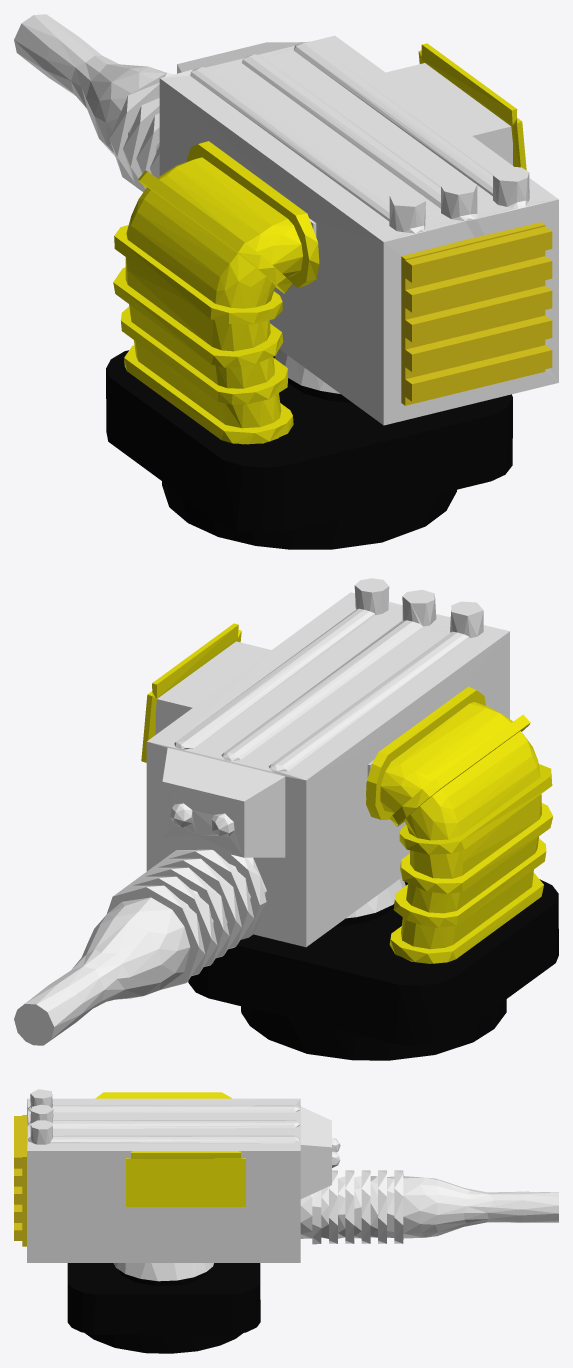
Rendered from machotine.obj.
3 renders of one model, top to bottom at view 1: azimuth 30°, elevation 25°; view 2: azimuth 150°, elevation 25°; view 3: azimuth 270°, elevation 25°, orthographic. The views are drawn at different scales.
Parts seen in each view (by area): view 1: object_1.005; view 2: object_1.005; view 3: object_1.005.
Part boxes in pixels (x1,y1,x2,y2): object_1.005: (14,14,558,549); object_1.005: (14,578,558,1060); object_1.005: (14,1089,558,1353).
Size of the model in its own units: 0.9562 by 0.986 by 2.2.
